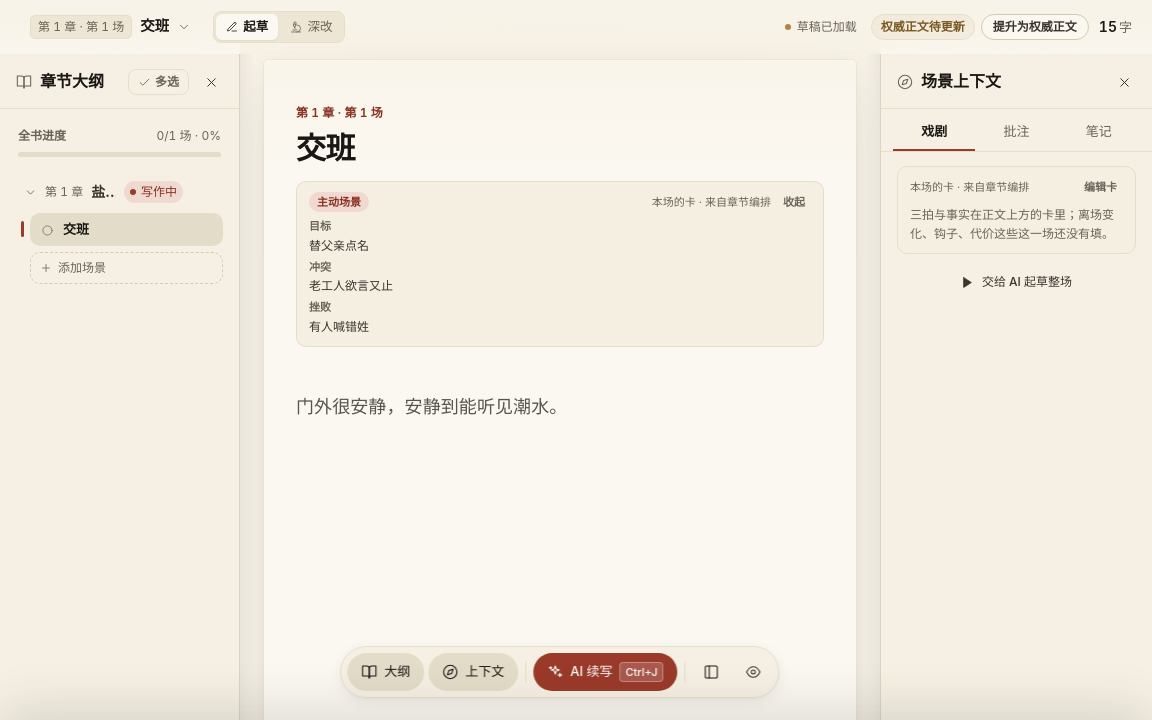
写作台 · 深改只诊断、不代笔 › 「按诊断改写」：选中那一句回到起草，工具条按发现的改法直接出候选，改写请求带着发现的 id / 维度 / 改法
Click the radio button labelled "深改".
click(311, 27)  # box [280,14,342,40]
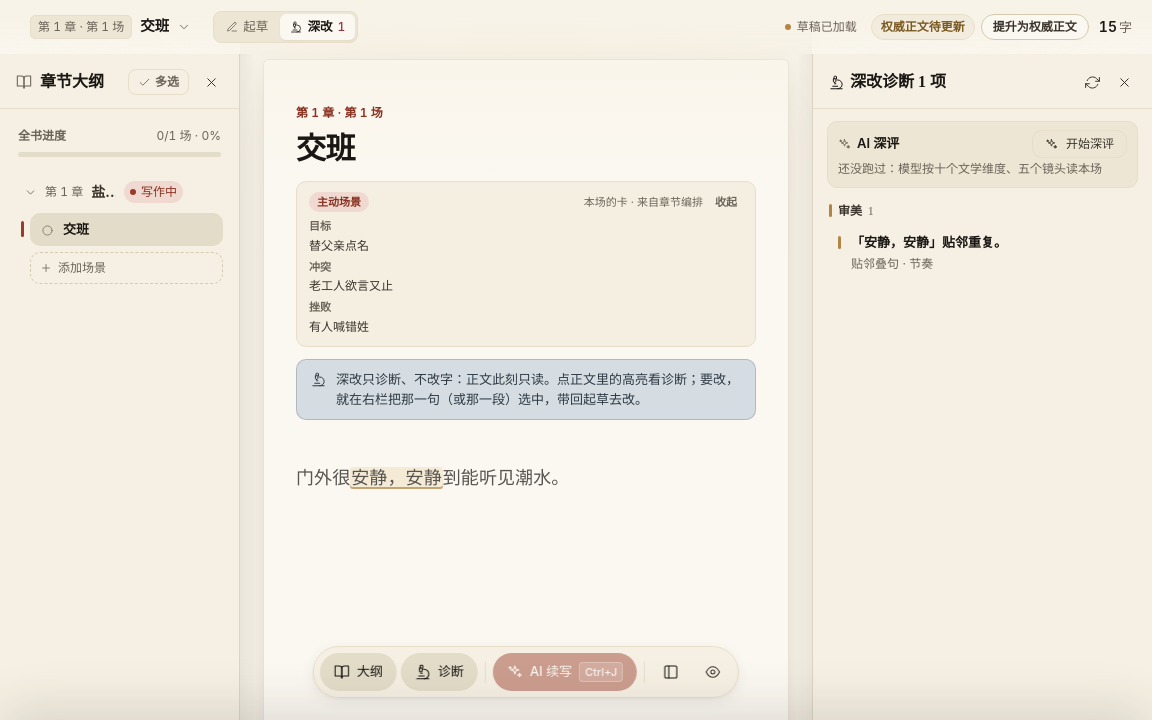
Expected: the element with class "wr-dxd" shows "贴邻重复"
Click the button with class "wr-dxd-row".
click(929, 242)  # box [828,225,1137,281]
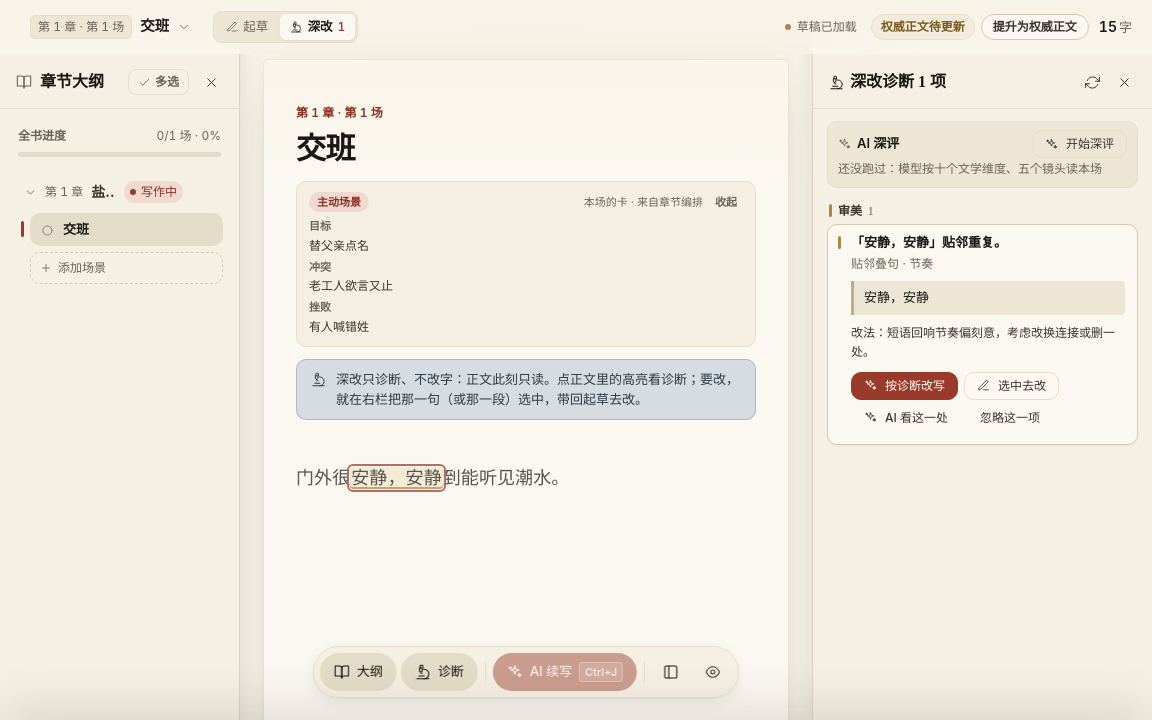
Click the button "按诊断改写".
click(904, 386)  # box [851,372,958,400]
Wait 120 ms
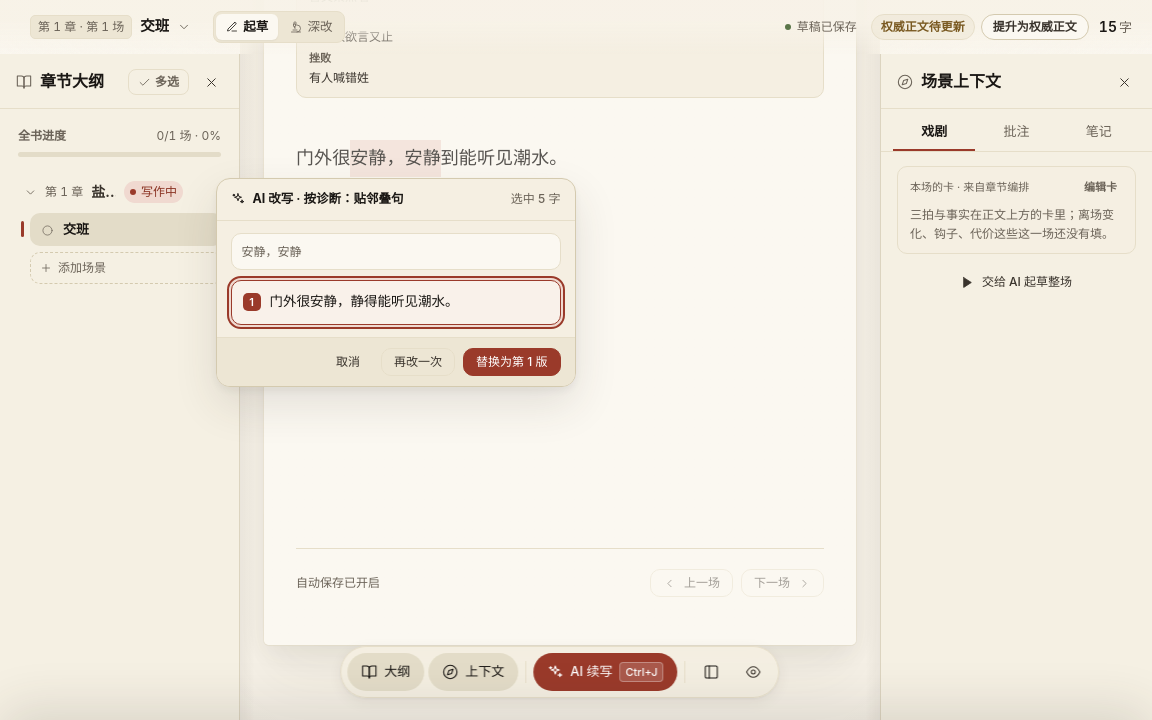
Expected: the dialog with class "wr-irw-pop" shows "替换为第 1 版", [216,178,576,387]
Expected: the dialog with class "wr-irw-pop" shows "按诊断：贴邻叠句", [293,191,403,206]
